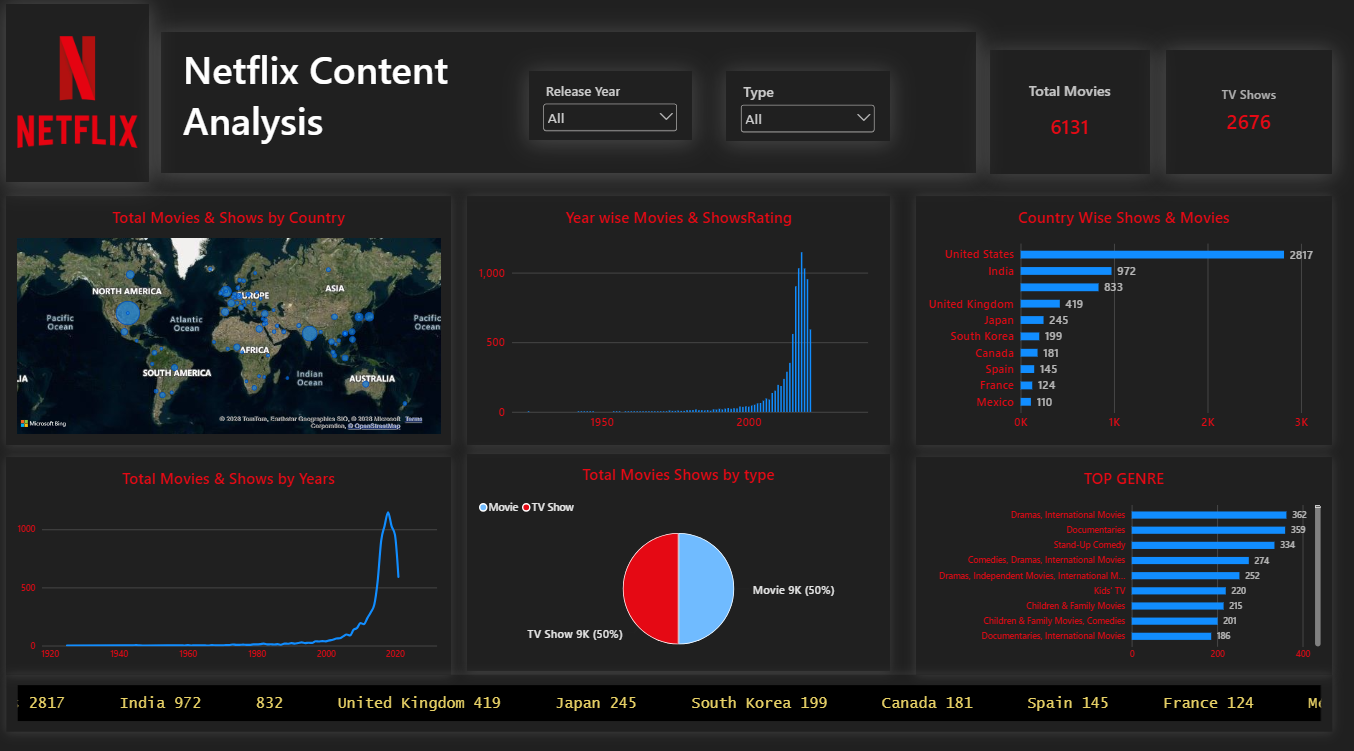

Layout of this report page (visuals, bound fields, positions):
{"tool":"powerbi","page":{"name":"Page 1","canvas":[1920,1080],"ordinal":0},"visuals":[{"type":"image","box":[20.9,24.4,198.8,249.4],"z":0},{"type":"map","title":"Total Movies & Shows by Country","fields":{"Category":["netflix_titles new.country"],"Size":["netflix_titles new.Total Movies Shows"]},"box":[20.9,293,621.6,347.9],"z":1000},{"type":"lineChart","title":"Total Movies & Shows by Years","fields":{"Category":["netflix_titles new.release_year"],"Y":["netflix_titles new.Total Movies Shows"]},"box":[20.9,657.6,620.9,303.5],"z":2000},{"type":"columnChart","title":"Year wise Movies & ShowsRating ","fields":{"Category":["netflix_titles new.release_year"],"Y":["CountNonNull(netflix_titles new.rating)"]},"box":[664.5,293,590.7,347.9],"z":3000},{"type":"pieChart","fields":{"Category":["netflix_titles new.type"],"Y":["netflix_titles new.Total Movies Shows"]},"box":[664.5,652.3,589.5,303.5],"z":4000},{"type":"cardVisual","fields":{"Data":["netflix_titles new.Movies"]},"box":[1393.6,89,223.3,172.7],"z":5000},{"type":"cardVisual","fields":{"Data":["netflix_titles new.TV Shows"]},"box":[1639.5,89,232,172.7],"z":6000},{"type":"barChart","title":"Country Wise Shows & Movies ","fields":{"Category":["netflix_titles new.country"],"Y":["CountNonNull(netflix_titles new.type)"]},"box":[1290.7,293,580.4,347.9],"z":7000},{"type":"barChart","title":"TOP GENRE","fields":{"Category":["netflix_titles new.listed_in"],"Y":["CountNonNull(netflix_titles new.listed_in)"]},"box":[1290.7,657.6,580.8,303.5],"z":8000},{"type":"ScrollingTextVisual1448795304508","fields":{"Category":["netflix_titles new.country"],"Measure Absolute":["netflix_titles new.Total Movies Shows"]},"box":[20.9,961,1850.6,80.2],"z":9000},{"type":"textbox","box":[237.2,64.5,1137.2,197.1],"z":10000},{"type":"slicer","fields":{"Values":["netflix_titles new.release_year"]},"box":[750,118.6,228.5,97],"z":11000},{"type":"slicer","fields":{"Values":["netflix_titles new.type"]},"box":[1025.6,118.6,228.5,97.7],"z":12000}]}

Visuals, with their boxes in screenshot pixels (x1, y1, x2, y2), scaled from the page's 1920x1080 canvas onto the 1354x751 screenshot:
image: <region>15, 17, 155, 190</region>
"Total Movies & Shows by Country" map: <region>15, 204, 453, 446</region>
"Total Movies & Shows by Years" lineChart: <region>15, 457, 453, 668</region>
"Year wise Movies & ShowsRating " columnChart: <region>469, 204, 885, 446</region>
pieChart - netflix_titles new.type x netflix_titles new.Total Movies Shows: <region>469, 454, 884, 665</region>
cardVisual - netflix_titles new.Movies: <region>983, 62, 1140, 182</region>
cardVisual - netflix_titles new.TV Shows: <region>1156, 62, 1320, 182</region>
"Country Wise Shows & Movies " barChart: <region>910, 204, 1320, 446</region>
"TOP GENRE" barChart: <region>910, 457, 1320, 668</region>
ScrollingTextVisual1448795304508 - netflix_titles new.country x netflix_titles new.Total Movies Shows: <region>15, 668, 1320, 724</region>
textbox: <region>167, 45, 969, 182</region>
slicer - netflix_titles new.release_year: <region>529, 82, 690, 150</region>
slicer - netflix_titles new.type: <region>723, 82, 884, 150</region>
